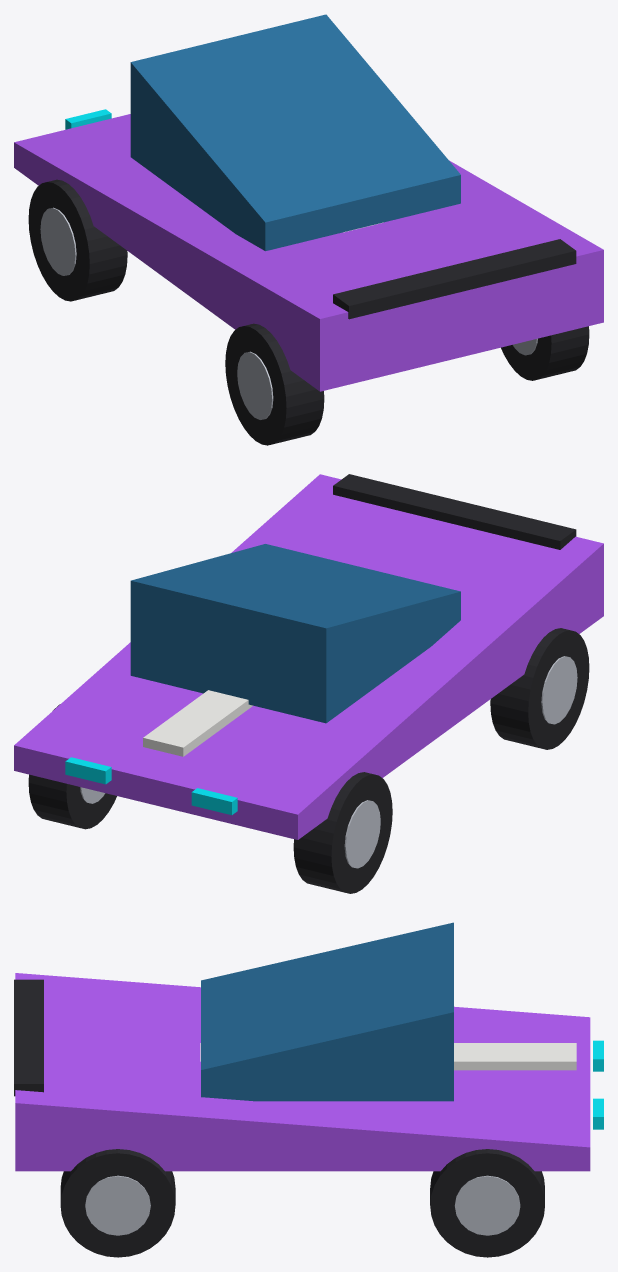
The model's file is traffic_coupe.glb.
3 views of the same model, one above another, from view 1: azimuth 30°, elevation 25°; view 2: azimuth 150°, elevation 25°; view 3: azimuth 270°, elevation 25° (orthographic). The views are drawn at different scales.
Parts seen in each view (by area): view 1: coupe_body, coupe_roof, coupe_spoiler, wheel_-1.05_1.35, wheel_-1.05_-1.35, wheel_1.05_1.35, rim_-1.05_-1.35, rim_-1.05_1.35; view 2: coupe_body, coupe_roof, wheel_-1.05_-1.35, wheel_-1.05_1.35, coupe_spoiler, coupe_stripe, wheel_1.05_-1.35, rim_-1.05_1.35, rim_-1.05_-1.35, coupe_head_l, coupe_head_r; view 3: coupe_body, coupe_roof, wheel_1.05_1.35, wheel_1.05_-1.35, coupe_stripe, coupe_spoiler, rim_1.05_-1.35, rim_1.05_1.35.
Boxes of the visible parts, bbox=[...] form: coupe_body: bbox=[14, 114, 603, 391]; coupe_roof: bbox=[130, 14, 460, 251]; coupe_spoiler: bbox=[333, 239, 576, 319]; wheel_-1.05_1.35: bbox=[225, 323, 324, 445]; wheel_-1.05_-1.35: bbox=[28, 179, 127, 301]; wheel_1.05_1.35: bbox=[501, 326, 589, 380]; rim_-1.05_-1.35: bbox=[40, 207, 76, 275]; rim_-1.05_1.35: bbox=[237, 351, 273, 419]; coupe_body: bbox=[14, 474, 603, 839]; coupe_roof: bbox=[130, 544, 460, 723]; wheel_-1.05_-1.35: bbox=[293, 772, 392, 893]; wheel_-1.05_1.35: bbox=[490, 628, 589, 749]; coupe_spoiler: bbox=[333, 474, 576, 549]; coupe_stripe: bbox=[143, 690, 252, 756]; wheel_1.05_-1.35: bbox=[28, 704, 116, 829]; rim_-1.05_1.35: bbox=[541, 656, 577, 724]; rim_-1.05_-1.35: bbox=[344, 800, 380, 868]; coupe_head_l: bbox=[191, 788, 237, 815]; coupe_head_r: bbox=[65, 757, 111, 784]; coupe_body: bbox=[15, 973, 590, 1171]; coupe_roof: bbox=[201, 922, 453, 1101]; wheel_1.05_1.35: bbox=[60, 1149, 175, 1257]; wheel_1.05_-1.35: bbox=[430, 1149, 544, 1257]; coupe_stripe: bbox=[200, 1043, 576, 1070]; coupe_spoiler: bbox=[14, 979, 43, 1096]; rim_1.05_-1.35: bbox=[454, 1175, 520, 1235]; rim_1.05_1.35: bbox=[85, 1175, 150, 1235].
Size of the model in its own units: 2.42 by 1.78 by 4.31.
